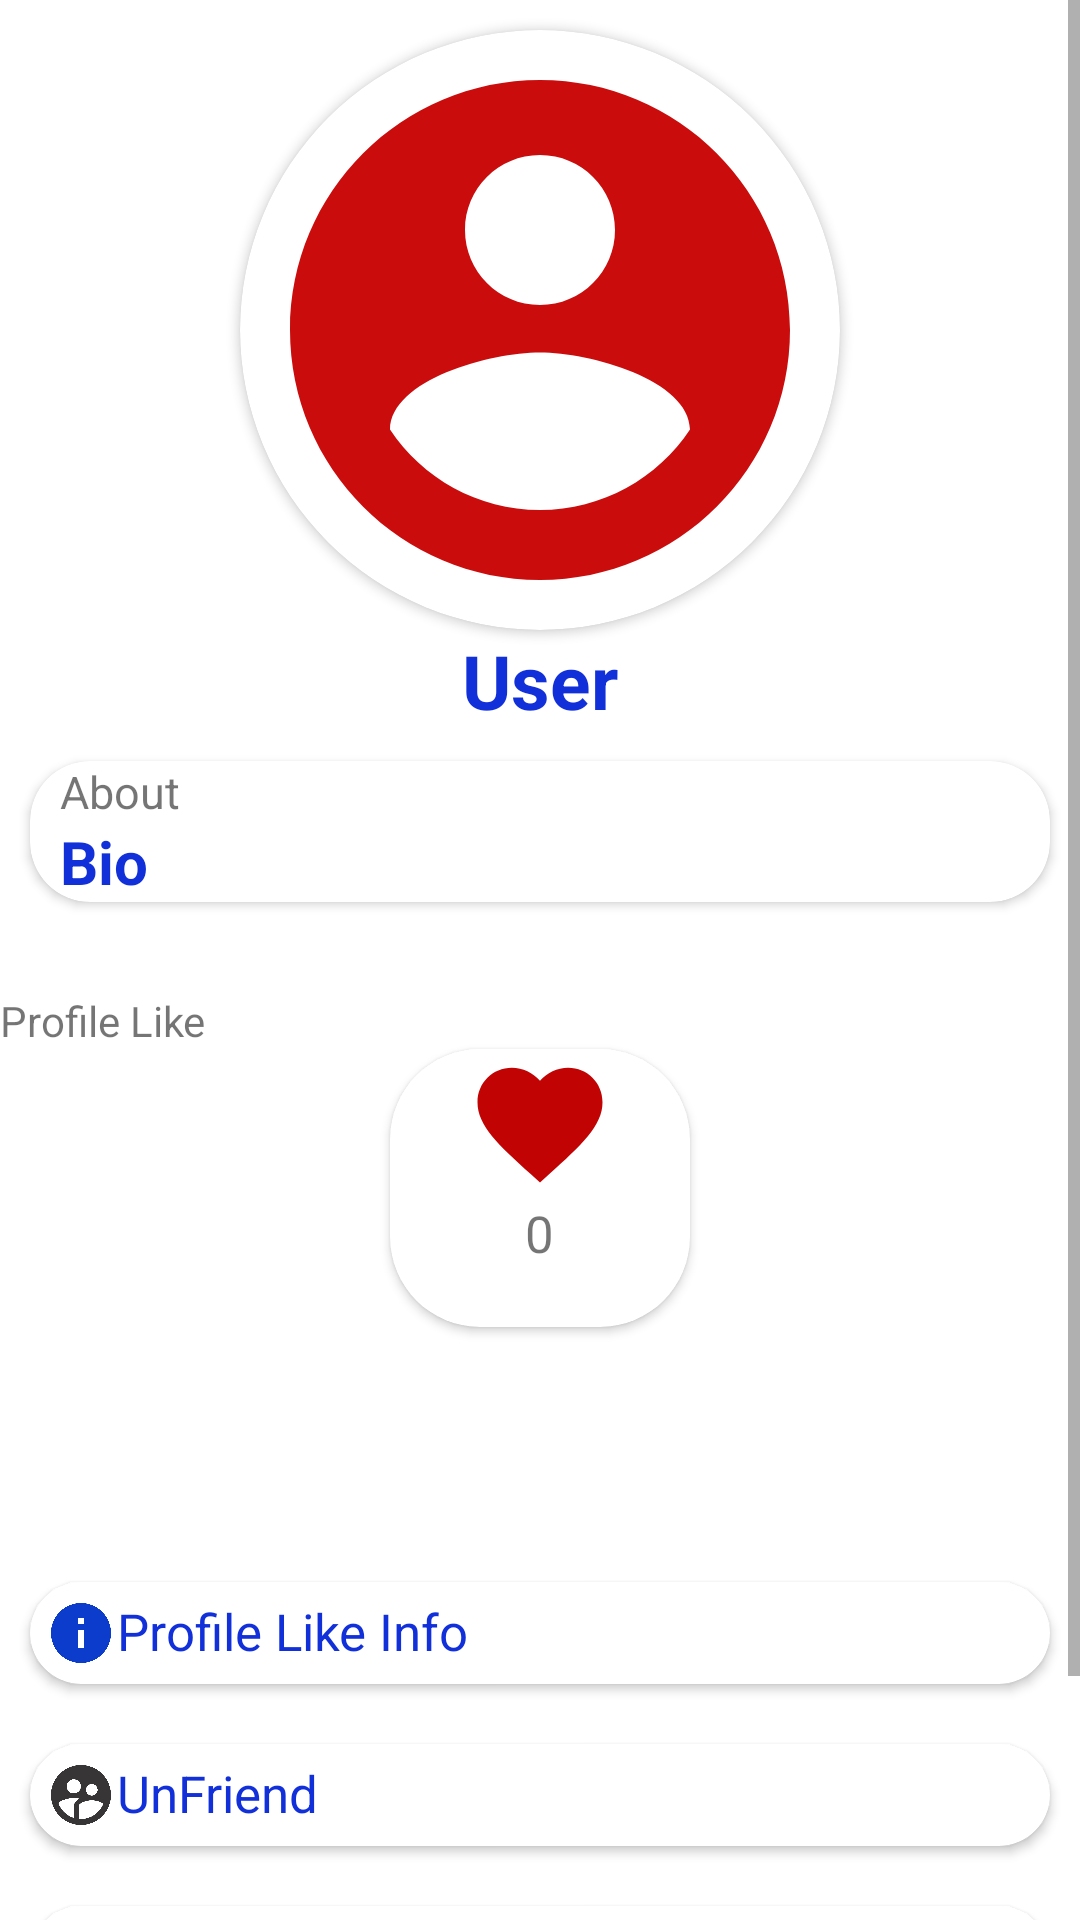

Screen size 1080px x 1920px. Icon name, then its center in pixels as (x,y):
heart: (540,1125)
